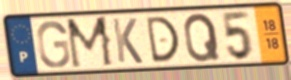5: (219, 9, 257, 62)
D: (144, 14, 181, 65)
G: (35, 19, 72, 70)
K: (110, 17, 145, 66)
M: (64, 15, 116, 71)
Q: (182, 11, 222, 64)
